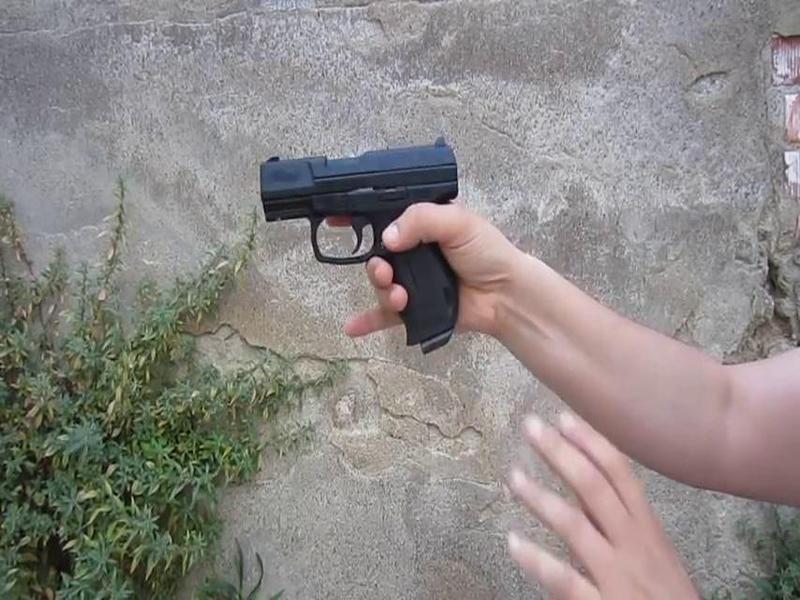Pistola: (258, 124, 481, 376)
